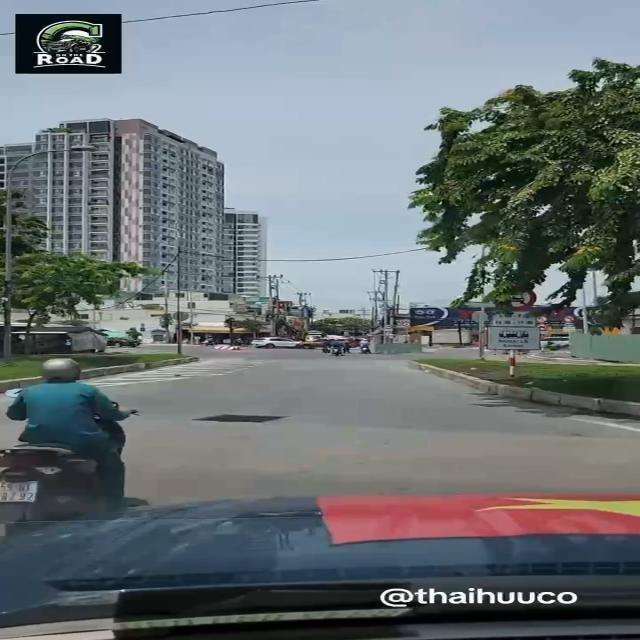103a-cam-oto: (490, 285, 538, 311)
123a-cam-re-trai: (563, 314, 575, 322)
